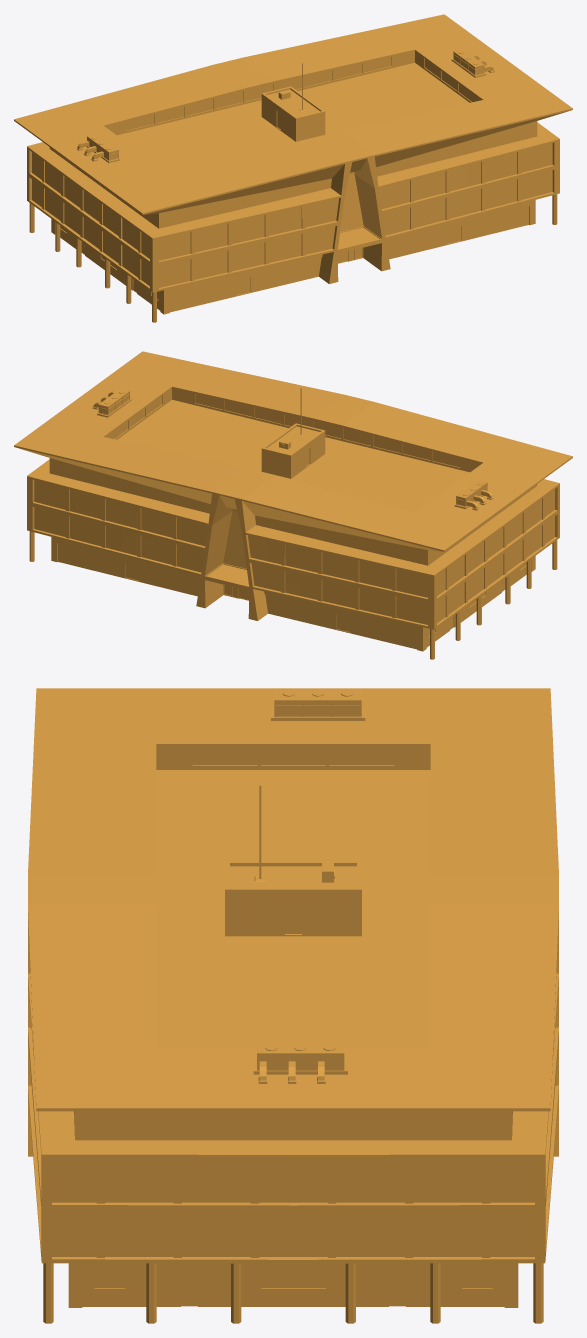
The model's file is building-train-station.fbx.
3 renders of one model, top to bottom at view 1: azimuth 30°, elevation 25°; view 2: azimuth 150°, elevation 25°; view 3: azimuth 270°, elevation 25°, orthographic. The views are drawn at different scales.
Visible parts, largest first — view 1: building-train-station; view 2: building-train-station; view 3: building-train-station.
Boxes of the visible parts, box(x1,y1,x2,y2) form: building-train-station: box(14, 14, 572, 322); building-train-station: box(14, 351, 572, 659); building-train-station: box(28, 688, 558, 1323).
Bounding box in the file's own units: 58 × 22 × 31.
